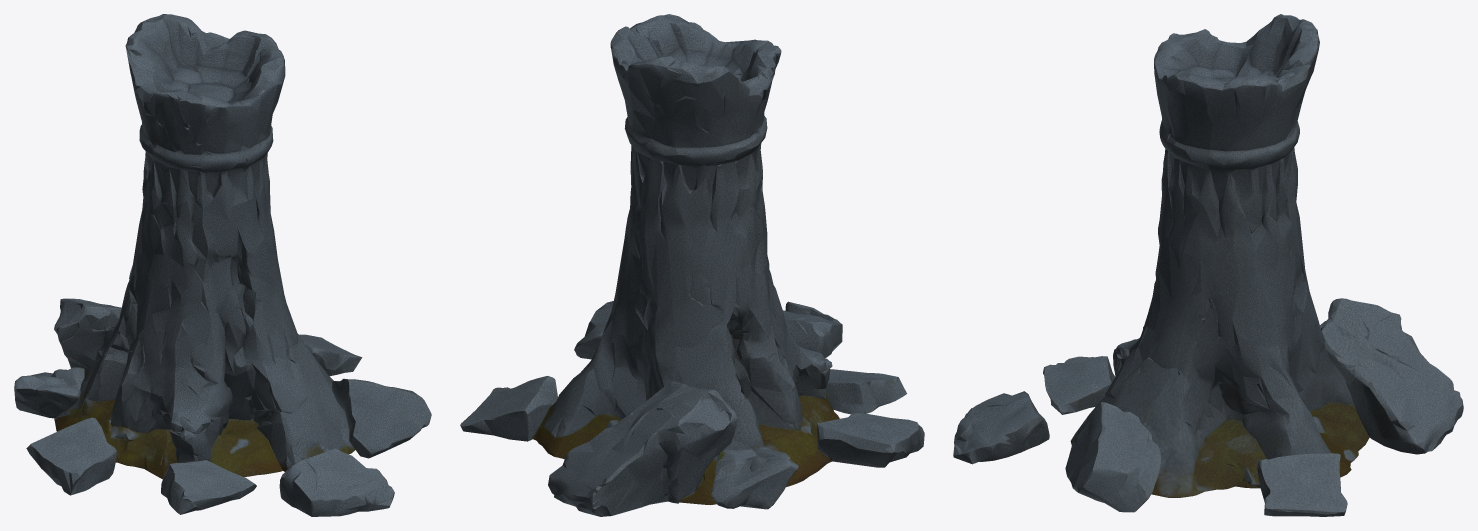
The model's file is Meshy_AI_Decor_broken_pillar_01a0e9ed_texture.glb.
3 views of the same model, side by side, from view 1: azimuth 30°, elevation 25°; view 2: azimuth 150°, elevation 25°; view 3: azimuth 270°, elevation 25° (orthographic). The views are drawn at different scales.
Size of the model in its own units: 1.61 by 1.64 by 1.9.
Materials: 1 (1 with a texture image).
